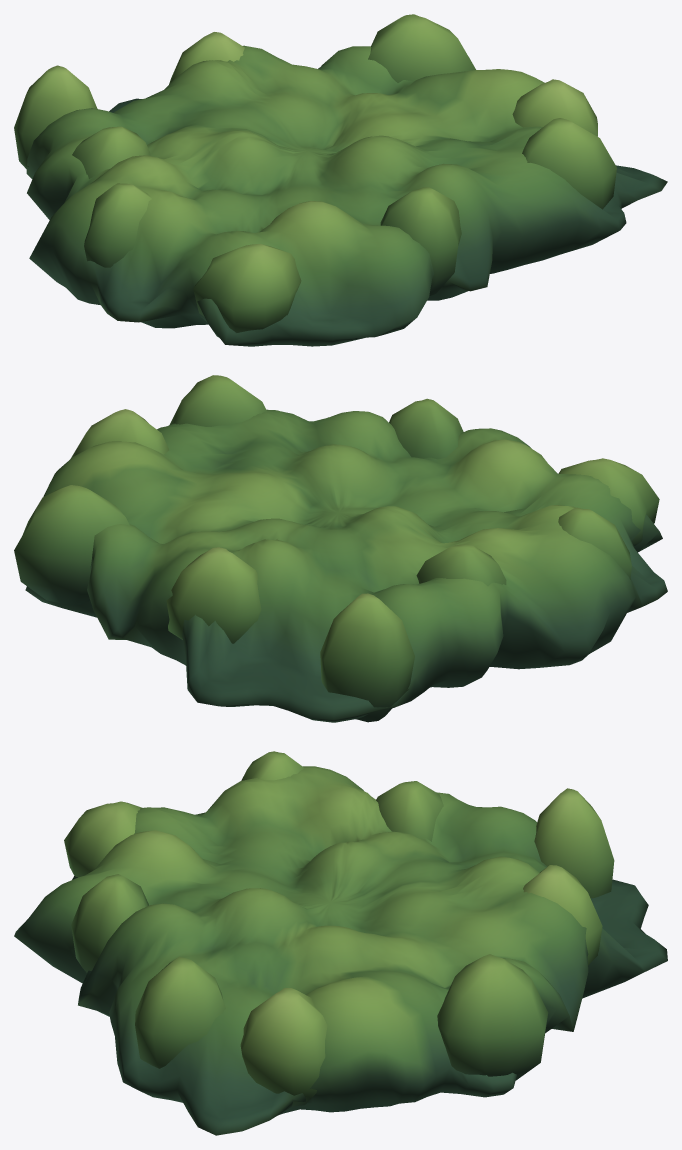
File: ForestCore_A.fbx
The picture shows the model from 3 angles, top to bottom: view 1: azimuth 30°, elevation 25°; view 2: azimuth 150°, elevation 25°; view 3: azimuth 270°, elevation 25°; orthographic projection. The views are drawn at different scales.
Visible parts, largest first — view 1: ForestCore_A; view 2: ForestCore_A; view 3: ForestCore_A.
Boxes of the visible parts, x1,y1,x2,y2 form: ForestCore_A: [14, 14, 667, 346]; ForestCore_A: [14, 375, 667, 722]; ForestCore_A: [14, 751, 667, 1135].
Bounding box in the file's own units: 3756 × 791 × 3455.
1 material, 1 textured.
